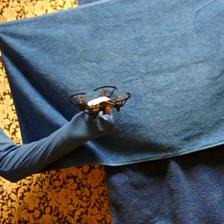drone: (69, 85, 130, 118)
